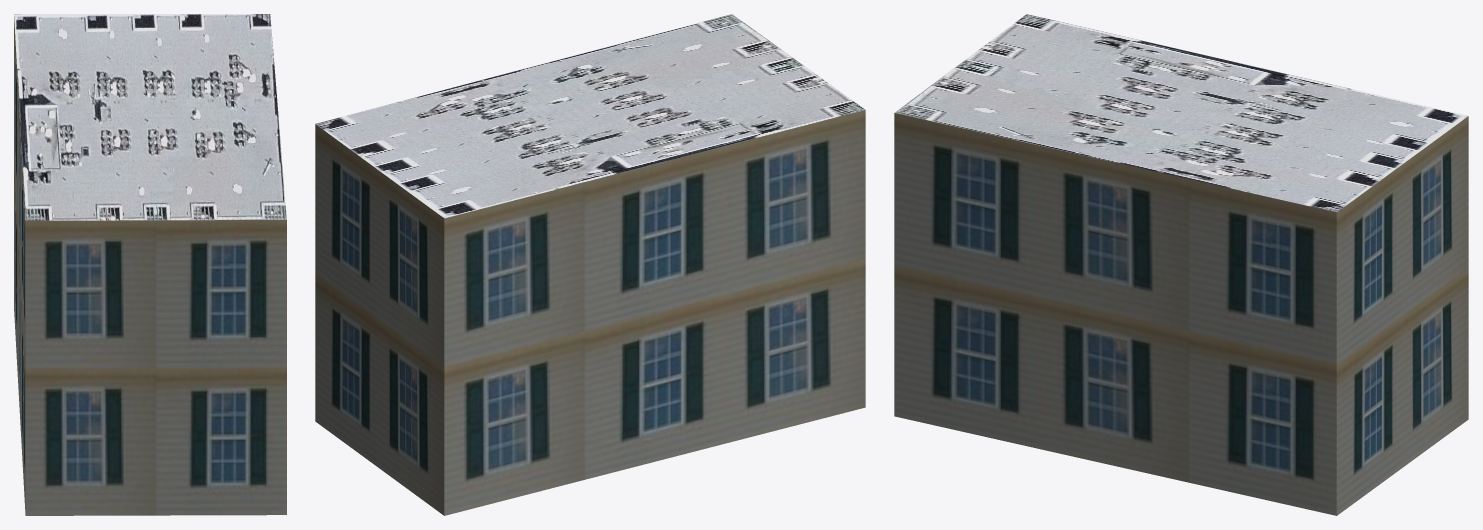
File: ResTex__765.fbx
The picture shows the model from 3 angles, left to right: view 1: azimuth 30°, elevation 25°; view 2: azimuth 150°, elevation 25°; view 3: azimuth 270°, elevation 25°; orthographic projection. The views are drawn at different scales.
Parts seen in each view (by area): view 1: CityEngineMaterial_7_m, CityEngineMaterial_4_m; view 2: CityEngineMaterial_7_m, CityEngineMaterial_4_m; view 3: CityEngineMaterial_7_m, CityEngineMaterial_4_m.
Boxes of the visible parts, x1,y1,x2,y2 form: CityEngineMaterial_7_m: [14, 16, 286, 515]; CityEngineMaterial_4_m: [14, 14, 286, 220]; CityEngineMaterial_7_m: [315, 110, 865, 515]; CityEngineMaterial_4_m: [316, 14, 865, 218]; CityEngineMaterial_7_m: [894, 113, 1468, 515]; CityEngineMaterial_4_m: [894, 14, 1467, 212].
Bounding box in the file's own units: 8.41 × 6 × 10.29.
Materials: 2 (2 with a texture image).
